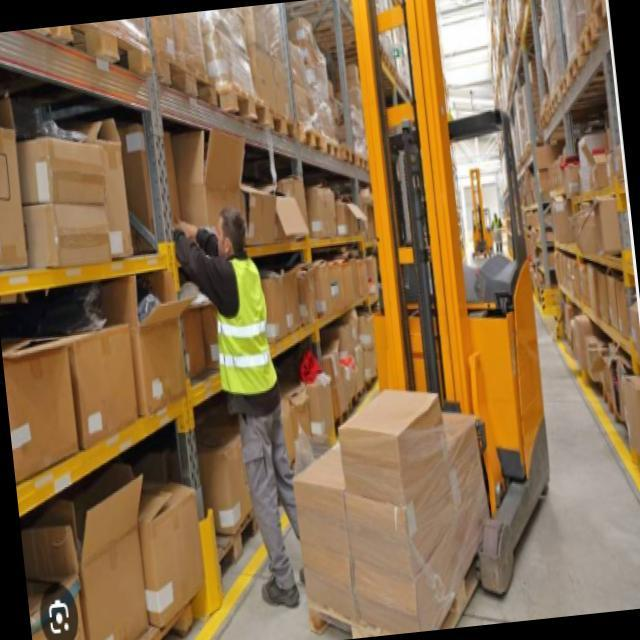boots: (252, 547, 344, 616)
vest: (207, 255, 282, 404)
